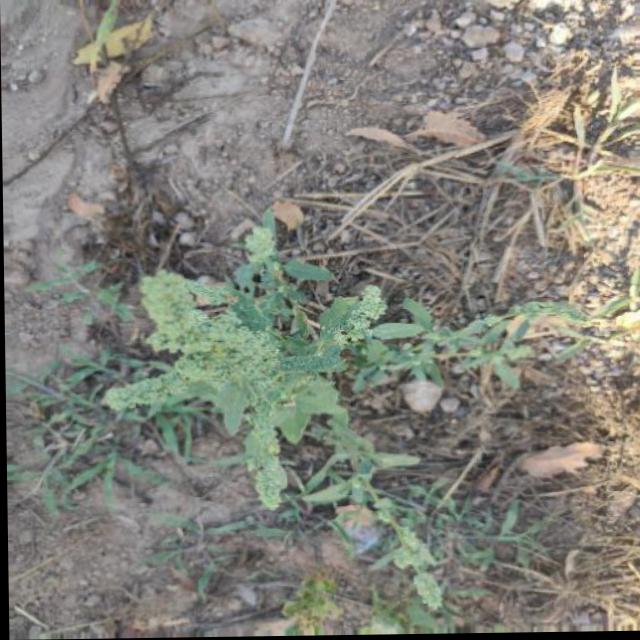weed: (113, 240, 515, 542)
